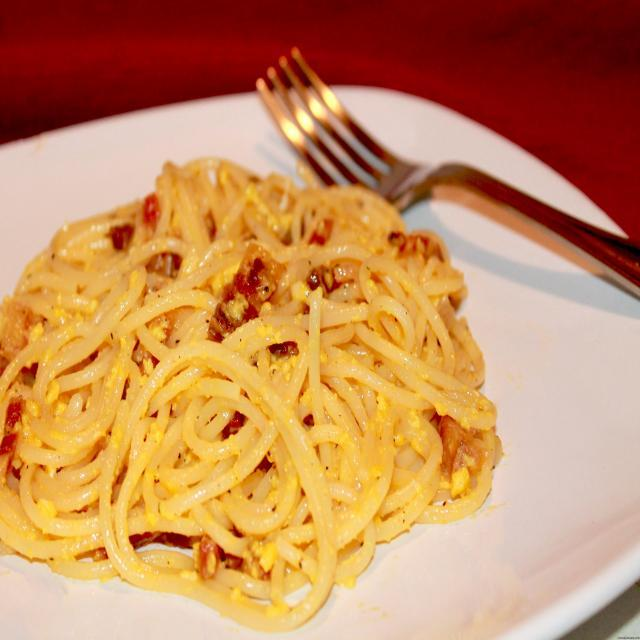Pasta with carbonara sauce: (6, 130, 536, 603)
